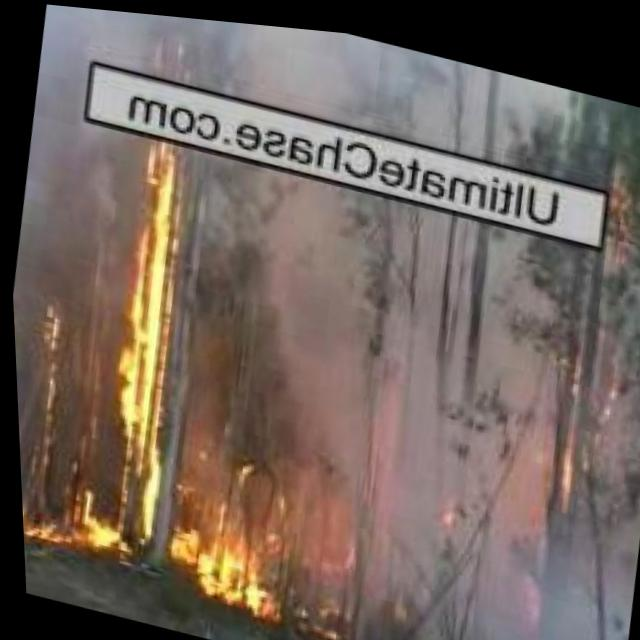Fire: (54, 102, 203, 561), (159, 461, 305, 629), (499, 406, 584, 552), (585, 155, 637, 254), (18, 503, 52, 544)
